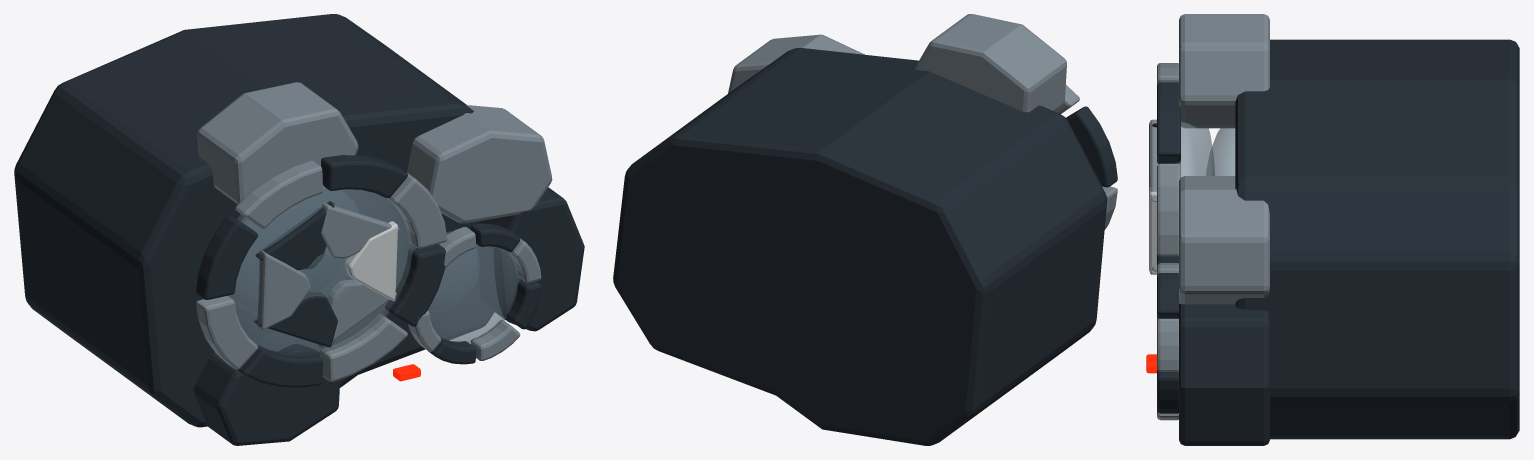
File: orbit-experience-balanced.glb
3 views of the same model, side by side, from view 1: azimuth 30°, elevation 25°; view 2: azimuth 150°, elevation 25°; view 3: azimuth 270°, elevation 25° (orthographic). The views are drawn at different scales.
Parts seen in each view (by area): view 1: Experience_MID_DeepOpticalBody, Experience_MID_HoodVane_SECONDARY_TOP, Experience_MID_HoodVane_PRIMARY_TOP, Experience_MID_OpticalVolume, Experience_MID_HoodVane_PRIMARY_BOTTOM, Experience_MID_HoodVane_SECONDARY_OUTER, Experience_MID_SECONDARY_OpticalVolume_0, Experience_MID_PRIMARY_Frame_03, Experience_MID_PRIMARY_Frame_02, Experience_MID_PRIMARY_Frame_06, Experience_MID_PRIMARY_Frame_07, Experience_MID_IrisBlade_03 (+17 smaller); view 2: Experience_MID_DeepOpticalBody, Experience_MID_HoodVane_PRIMARY_TOP, Experience_MID_HoodVane_SECONDARY_TOP, Experience_MID_PRIMARY_Frame_03; view 3: Experience_MID_DeepOpticalBody, Experience_MID_HoodVane_SECONDARY_OUTER, Experience_MID_HoodVane_SECONDARY_TOP, Experience_MID_HoodVane_PRIMARY_TOP, Experience_MID_PRIMARY_Frame_00, Experience_MID_PRIMARY_Frame_01, Experience_MID_OpticalVolume, Experience_MID_PRIMARY_OpticalVolume_1, Experience_MID_SECONDARY_Frame_00, Experience_MID_SECONDARY_Frame_01, Experience_MID_SECONDARY_Frame_07, Experience_MID_IrisBlade_00 (+2 smaller).
Part boxes in pixels (box(x1,y1,x2,y2)): Experience_MID_DeepOpticalBody: box(14, 14, 493, 427); Experience_MID_HoodVane_SECONDARY_TOP: box(407, 105, 552, 223); Experience_MID_HoodVane_PRIMARY_TOP: box(197, 82, 358, 204); Experience_MID_OpticalVolume: box(228, 185, 415, 356); Experience_MID_HoodVane_PRIMARY_BOTTOM: box(194, 332, 340, 445); Experience_MID_HoodVane_SECONDARY_OUTER: box(476, 187, 584, 331); Experience_MID_SECONDARY_OpticalVolume_0: box(428, 244, 520, 343); Experience_MID_PRIMARY_Frame_03: box(196, 216, 258, 299); Experience_MID_PRIMARY_Frame_02: box(235, 160, 322, 228); Experience_MID_PRIMARY_Frame_06: box(320, 314, 407, 381); Experience_MID_PRIMARY_Frame_07: box(385, 244, 445, 326); Experience_MID_IrisBlade_03: box(257, 250, 310, 329); Experience_MID_DeepOpticalBody: box(613, 48, 1106, 445); Experience_MID_HoodVane_PRIMARY_TOP: box(915, 14, 1066, 112); Experience_MID_HoodVane_SECONDARY_TOP: box(728, 34, 864, 93); Experience_MID_PRIMARY_Frame_03: box(1066, 106, 1117, 187); Experience_MID_DeepOpticalBody: box(1235, 39, 1519, 439); Experience_MID_HoodVane_SECONDARY_OUTER: box(1179, 303, 1269, 445); Experience_MID_HoodVane_SECONDARY_TOP: box(1179, 176, 1269, 304); Experience_MID_HoodVane_PRIMARY_TOP: box(1179, 14, 1269, 128); Experience_MID_PRIMARY_Frame_00: box(1157, 163, 1180, 256); Experience_MID_PRIMARY_Frame_01: box(1157, 82, 1180, 163); Experience_MID_OpticalVolume: box(1175, 122, 1214, 177); Experience_MID_PRIMARY_OpticalVolume_1: box(1206, 128, 1235, 175); Experience_MID_SECONDARY_Frame_00: box(1157, 318, 1178, 371); Experience_MID_SECONDARY_Frame_01: box(1157, 273, 1178, 318); Experience_MID_SECONDARY_Frame_07: box(1157, 371, 1178, 413); Experience_MID_IrisBlade_00: box(1149, 186, 1156, 274).
Size of the model in its own units: 7.34 by 5.42 by 5.25.
